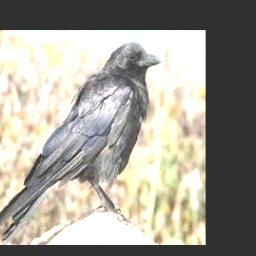Crow: (0, 41, 163, 245)
